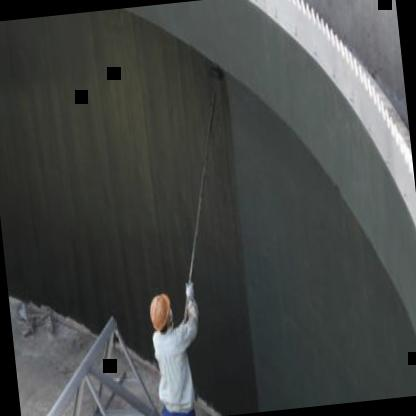helmet: (144, 289, 176, 336)
